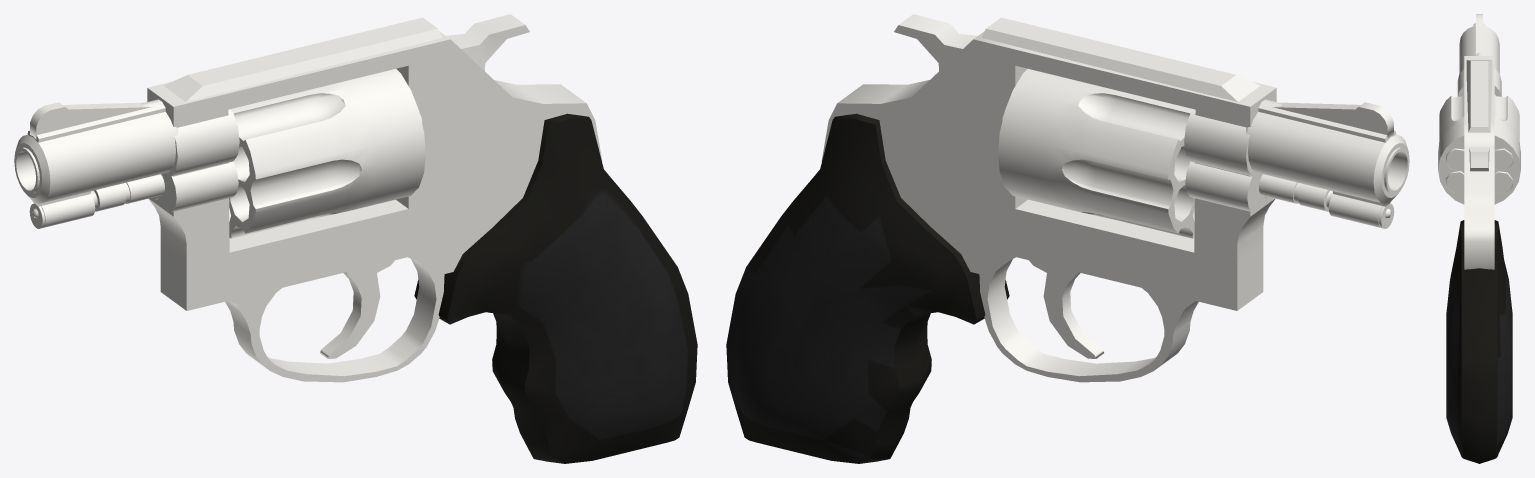
Rendered from revoler_color.fbx.
3 views of the same model, side by side, from view 1: azimuth 30°, elevation 25°; view 2: azimuth 150°, elevation 25°; view 3: azimuth 270°, elevation 25° (orthographic). The views are drawn at different scales.
Parts seen in each view (by area): view 1: nong_sung_low; view 2: nong_sung_low; view 3: nong_sung_low.
Part boxes in pixels (x1,y1,x2,y2): nong_sung_low: (14,14,697,463); nong_sung_low: (726,14,1409,463); nong_sung_low: (1438,14,1520,463).
Bounding box in the file's own units: 7.75 × 5.35 × 1.46.
